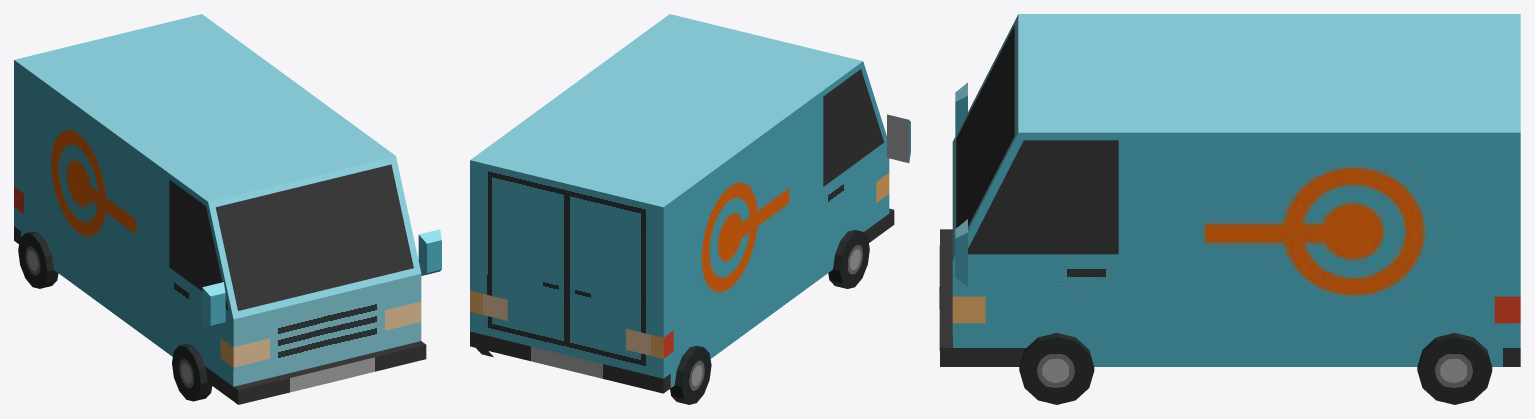
Rendered from van_mesh_blue.gltf.
3 renders of one model, left to right at view 1: azimuth 30°, elevation 25°; view 2: azimuth 150°, elevation 25°; view 3: azimuth 270°, elevation 25°, orthographic. The views are drawn at different scales.
Visible parts, largest first — view 1: van_mesh_blue; view 2: van_mesh_blue; view 3: van_mesh_blue.
Part boxes in pixels (x1,y1,x2,y2): van_mesh_blue: (14,14,441,404); van_mesh_blue: (470,14,910,404); van_mesh_blue: (939,14,1520,404).
Bounding box in the file's own units: 3.44 × 2.86 × 5.62.
1 material, 1 textured.
